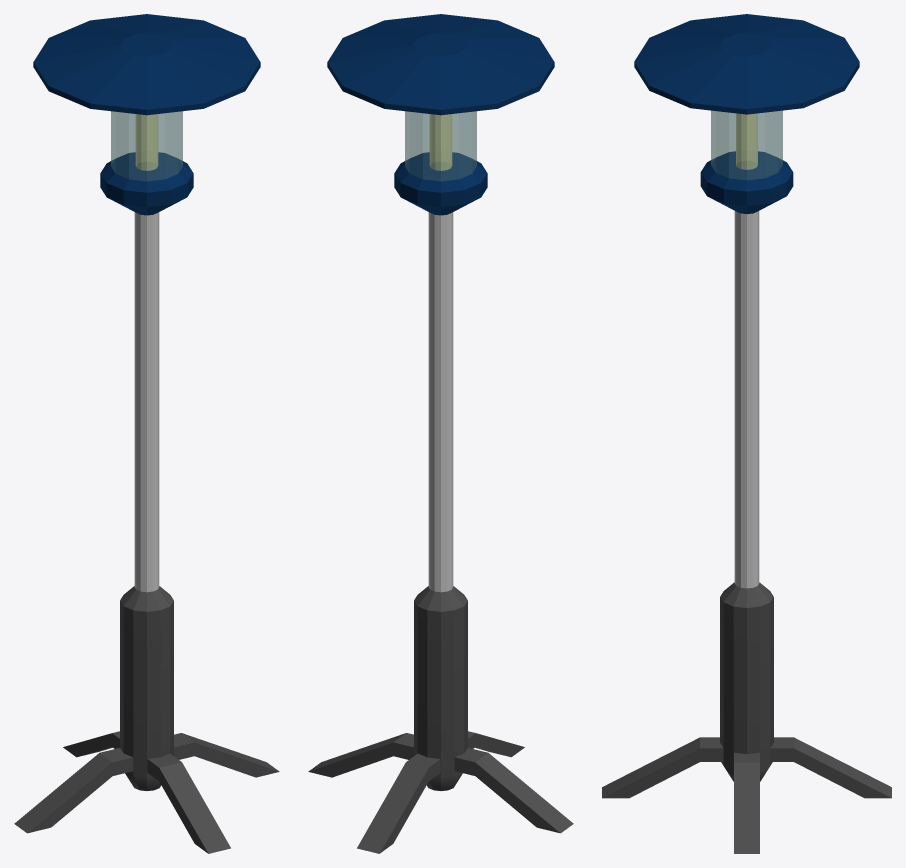
Rendered from Short_Lamp.fbx.
The picture shows the model from 3 angles, left to right: view 1: azimuth 30°, elevation 25°; view 2: azimuth 150°, elevation 25°; view 3: azimuth 270°, elevation 25°; orthographic projection.
Parts seen in each view (by area): view 1: Short_Lamp, polySurface192, pCube75, pCube72, pCube73, pCube74; view 2: Short_Lamp, polySurface192, pCube75, pCube74, pCube73, pCube72; view 3: Short_Lamp, polySurface192, pCube72, pCube74, pCube73.
Part boxes in pixels (bbox=[...]): Short_Lamp: bbox=[33, 14, 260, 790]; polySurface192: bbox=[111, 111, 182, 180]; pCube75: bbox=[14, 748, 133, 833]; pCube72: bbox=[147, 753, 230, 853]; pCube73: bbox=[174, 733, 279, 777]; pCube74: bbox=[63, 731, 119, 757]; Short_Lamp: bbox=[327, 14, 554, 790]; polySurface192: bbox=[405, 111, 476, 180]; pCube75: bbox=[454, 748, 573, 833]; pCube74: bbox=[357, 753, 440, 853]; pCube73: bbox=[308, 733, 413, 777]; pCube72: bbox=[468, 731, 524, 757]; Short_Lamp: bbox=[634, 14, 859, 781]; polySurface192: bbox=[711, 110, 782, 179]; pCube72: bbox=[602, 737, 723, 798]; pCube74: bbox=[770, 737, 891, 798]; pCube73: bbox=[734, 752, 759, 853].
Bounding box in the file's own units: 0.7395 × 0.7395 × 2.11.
